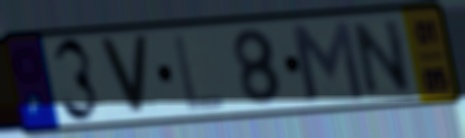3: (49, 35, 103, 125)
8: (230, 26, 284, 108)
L: (170, 30, 229, 115)
M: (286, 18, 369, 105)
N: (351, 16, 414, 100)
V: (95, 34, 151, 118)
